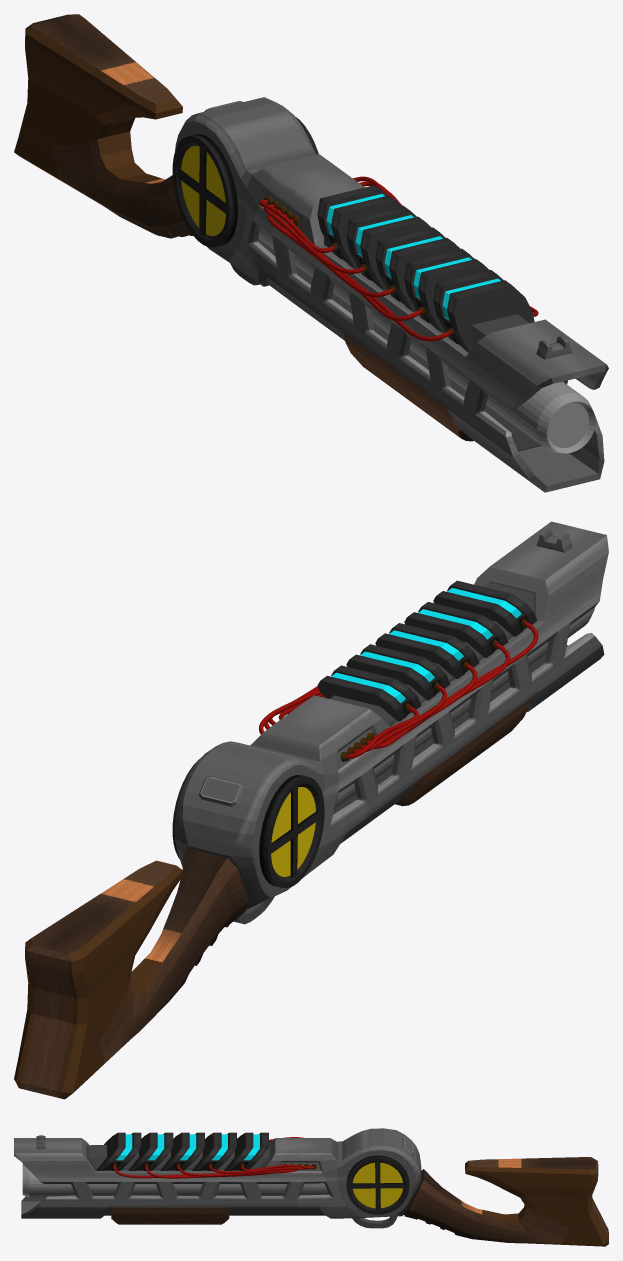
File: PR_Shotty.fbx
3 views of the same model, one above another, from view 1: azimuth 30°, elevation 25°; view 2: azimuth 150°, elevation 25°; view 3: azimuth 270°, elevation 25° (orthographic). The views are drawn at different scales.
Parts seen in each view (by area): view 1: Cube.011, Cube.013, Cube.015, Cylinder.011, Cylinder.018, Cube.012, Cube.022, Wire4, Wire3, Wire5, Wire1; view 2: Cube.011, Cube.013, Cube.015, Cylinder.011, Cube.012, Cylinder.018, Cube.022, Wire5; view 3: Cube.011, Cube.013, Cube.015, Cylinder.011, Cylinder.018, Cube.012, Cube.020, Wire3, Wire2, Wire4, Wire5, Wire1.
Boxes of the visible parts, x1=… form: Cube.011: x1=175, y1=97, x2=608, y2=492; Cube.013: x1=14, y1=14, x2=192, y2=238; Cube.015: x1=317, y1=185, x2=534, y2=352; Cylinder.011: x1=172, y1=116, x2=318, y2=247; Cylinder.018: x1=258, y1=227, x2=595, y2=453; Cube.012: x1=343, y1=333, x2=473, y2=441; Cube.022: x1=258, y1=238, x2=541, y2=451; Wire4: x1=263, y1=181, x2=403, y2=274; Wire3: x1=267, y1=192, x2=398, y2=297; Wire5: x1=259, y1=176, x2=392, y2=252; Wire1: x1=289, y1=219, x2=538, y2=341; Cube.011: x1=174, y1=521, x2=608, y2=909; Cube.013: x1=14, y1=847, x2=247, y2=1099; Cube.015: x1=317, y1=580, x2=537, y2=721; Cylinder.011: x1=172, y1=759, x2=324, y2=888; Cube.012: x1=395, y1=698, x2=530, y2=806; Cylinder.018: x1=334, y1=607, x2=594, y2=808; Cube.022: x1=333, y1=654, x2=545, y2=814; Wire5: x1=259, y1=690, x2=419, y2=758; Cube.011: x1=14, y1=1128, x2=422, y2=1218; Cube.013: x1=404, y1=1157, x2=608, y2=1246; Cube.015: x1=96, y1=1132, x2=268, y2=1170; Cylinder.011: x1=346, y1=1155, x2=409, y2=1214; Cylinder.018: x1=22, y1=1164, x2=329, y2=1197; Cube.012: x1=111, y1=1207, x2=229, y2=1224; Cube.020: x1=352, y1=1216, x2=397, y2=1228; Wire3: x1=177, y1=1142, x2=297, y2=1176; Wire2: x1=145, y1=1165, x2=289, y2=1178; Wire4: x1=209, y1=1142, x2=305, y2=1173; Wire5: x1=241, y1=1137, x2=314, y2=1170; Wire1: x1=113, y1=1142, x2=277, y2=1178.
Bounding box in the file's own units: 59.73 × 89.31 × 465.
